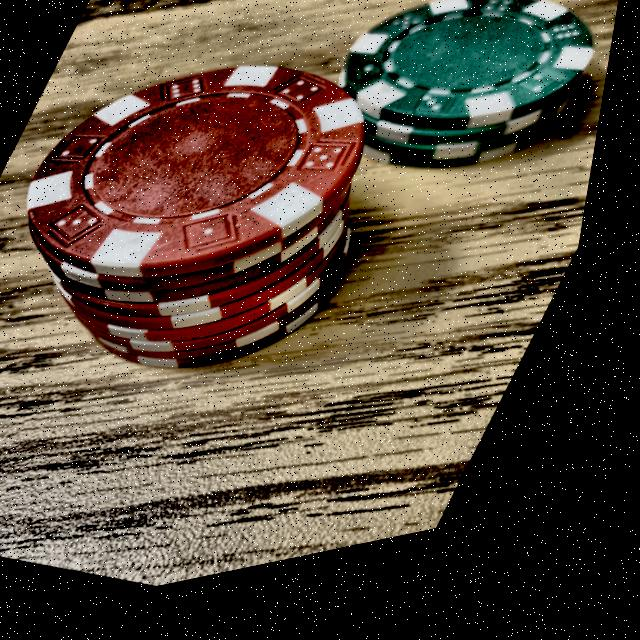Chip: (0, 0, 466, 488), (285, 0, 634, 264)
